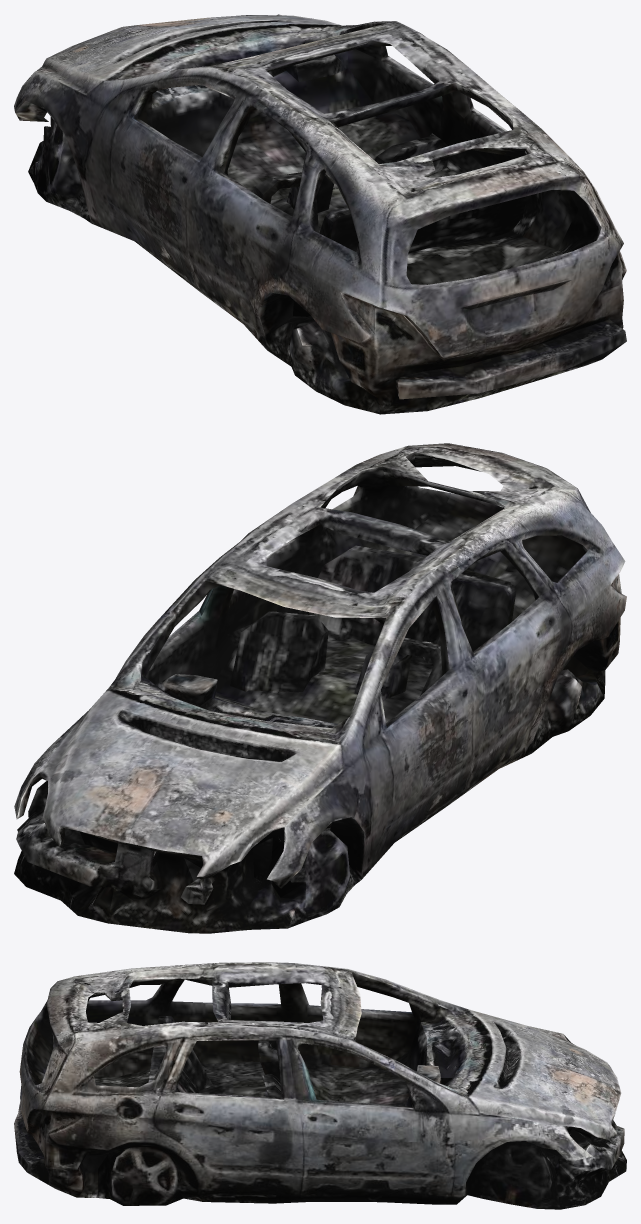
Rendered from SM_BurnedSedan.glb.
3 renders of one model, top to bottom at view 1: azimuth 30°, elevation 25°; view 2: azimuth 150°, elevation 25°; view 3: azimuth 270°, elevation 25°, orthographic. The views are drawn at different scales.
Parts seen in each view (by area): view 1: SM_BurnedSedan; view 2: SM_BurnedSedan; view 3: SM_BurnedSedan.
Boxes of the visible parts, x1,y1,x2,y2 form: SM_BurnedSedan: (14, 14, 626, 414); SM_BurnedSedan: (14, 443, 626, 933); SM_BurnedSedan: (14, 962, 626, 1209).
Size of the model in its own units: 124 by 85.5 by 295.
Materials: 1 (1 with a texture image).
